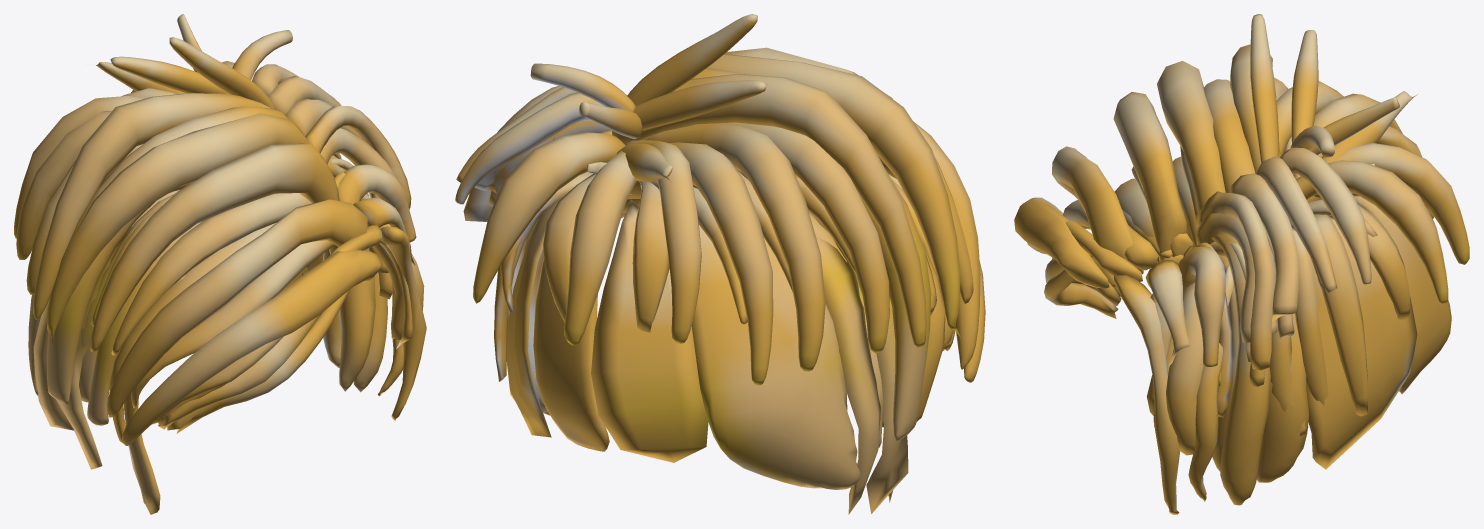
The model's file is KARENHAIR_supersized.fbx.
3 views of the same model, side by side, from view 1: azimuth 30°, elevation 25°; view 2: azimuth 150°, elevation 25°; view 3: azimuth 270°, elevation 25° (orthographic). The views are drawn at different scales.
Visible parts, largest first — view 1: Retopo_NurbsPath.005; view 2: Retopo_NurbsPath.005; view 3: Retopo_NurbsPath.005.
Boxes of the visible parts, bbox=[...] form: Retopo_NurbsPath.005: bbox=[14, 14, 426, 514]; Retopo_NurbsPath.005: bbox=[455, 14, 985, 514]; Retopo_NurbsPath.005: bbox=[1014, 14, 1469, 514].
Size of the model in its own units: 132 by 139 by 130.
